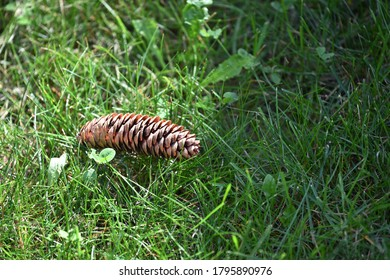Pc: (78, 113, 203, 158)
